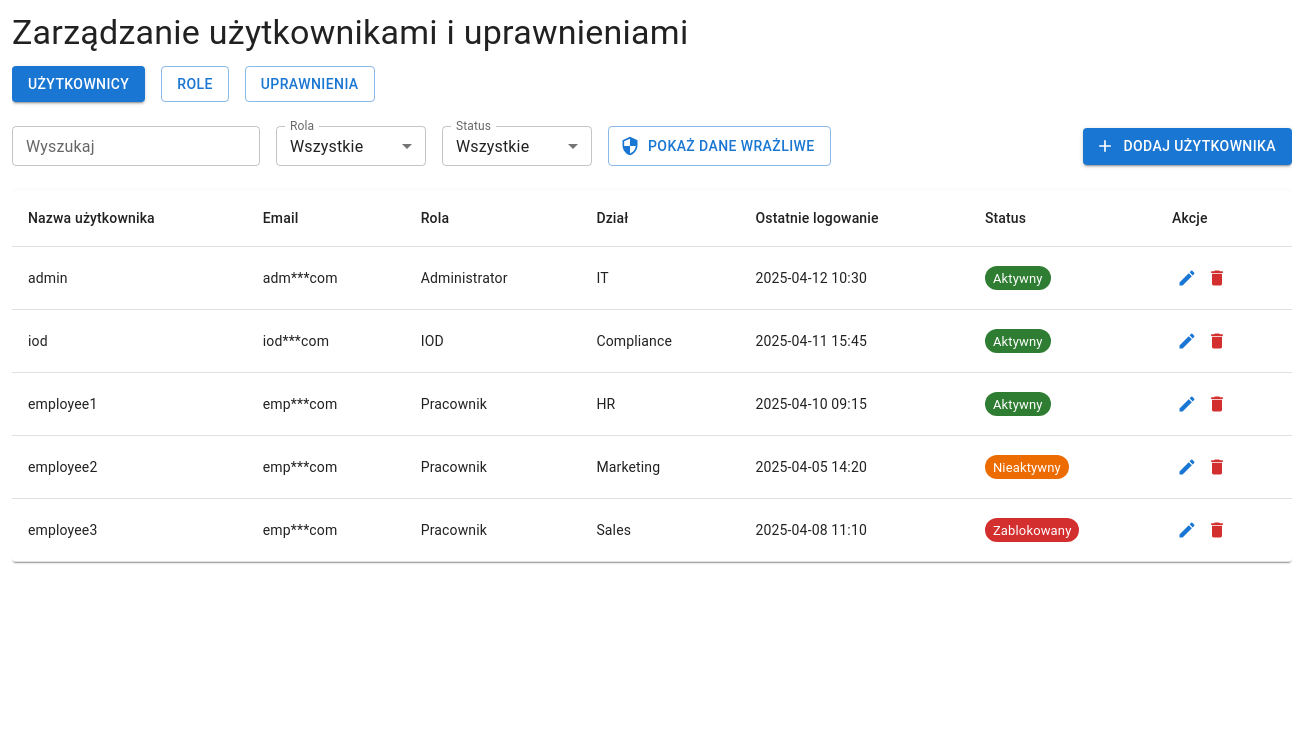
Test: UserManagementPage Component › toggles sensitive data visibility
Kliknięcie przycisku pokazywania danych wrażliwych
What coordinates should you click on to do the following:
click the button "Pokaż dane wrażliwe"
I would click on:
 (719, 146)
Its box is [608,126,831,166].
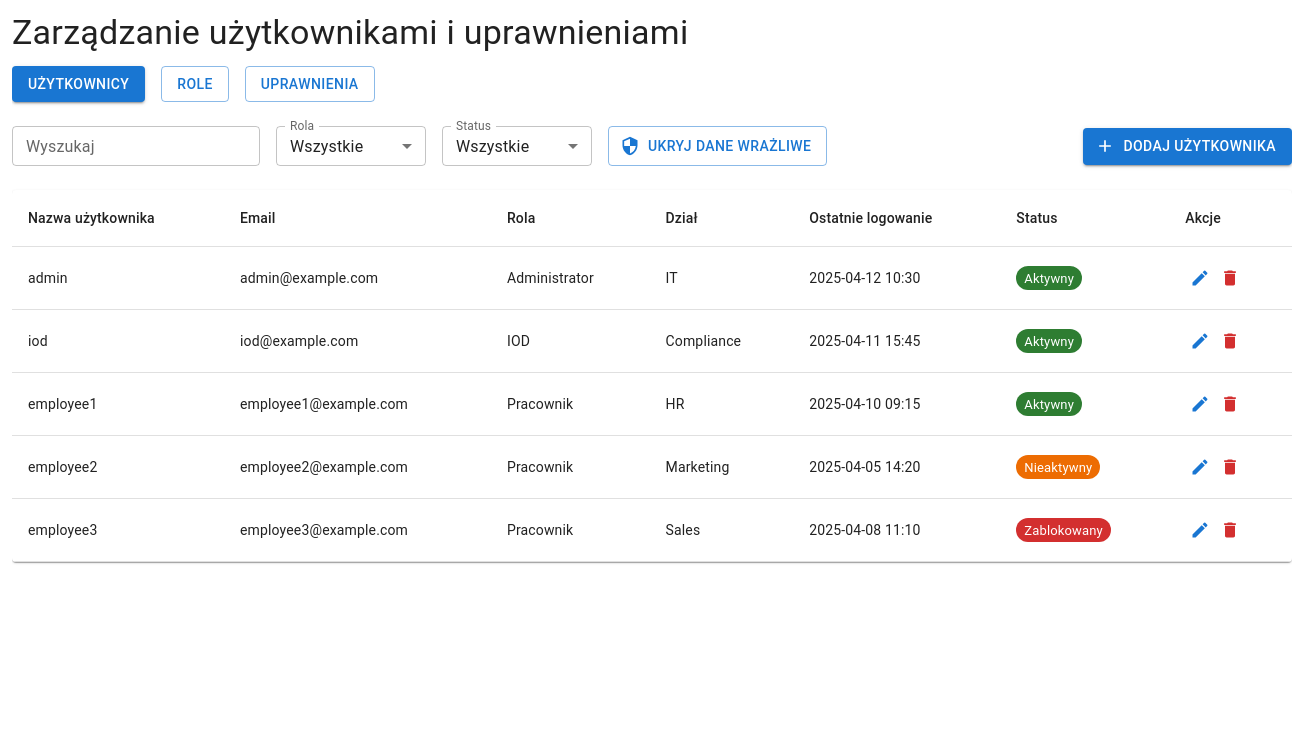
Expected: the button "Ukryj dane wrażliwe" is shown, [608,126,827,166]
